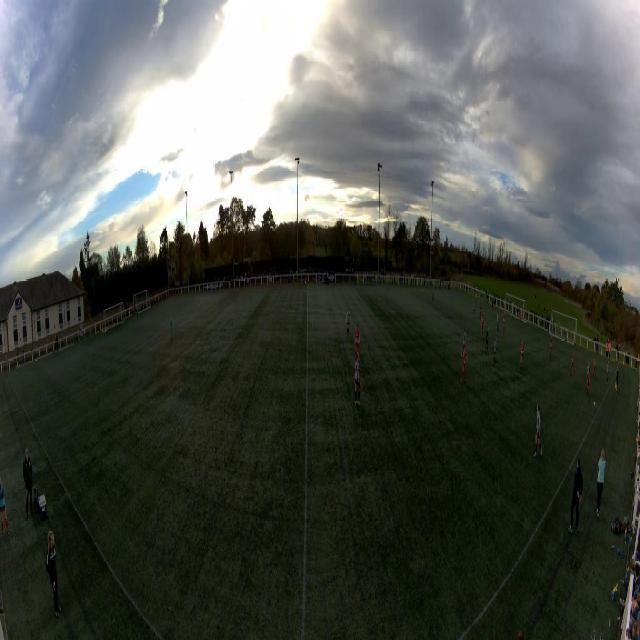ball: (594, 402, 596, 406)
player: (534, 403, 543, 458), (354, 353, 362, 405), (461, 347, 468, 384), (354, 324, 360, 356), (519, 340, 525, 370), (461, 329, 467, 358), (570, 349, 576, 376), (586, 364, 591, 396), (492, 337, 497, 366), (346, 307, 351, 336), (485, 326, 489, 355), (606, 360, 610, 385), (593, 355, 597, 377), (481, 314, 484, 338), (550, 335, 553, 359), (170, 316, 173, 340), (503, 312, 506, 332), (519, 310, 522, 327), (432, 288, 435, 302), (497, 312, 499, 331), (480, 303, 482, 320), (473, 301, 475, 318)
